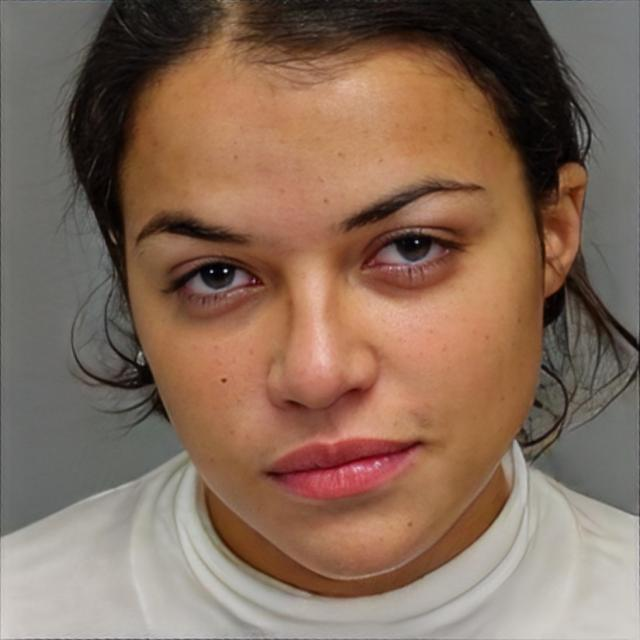content: (124, 34, 542, 582)
